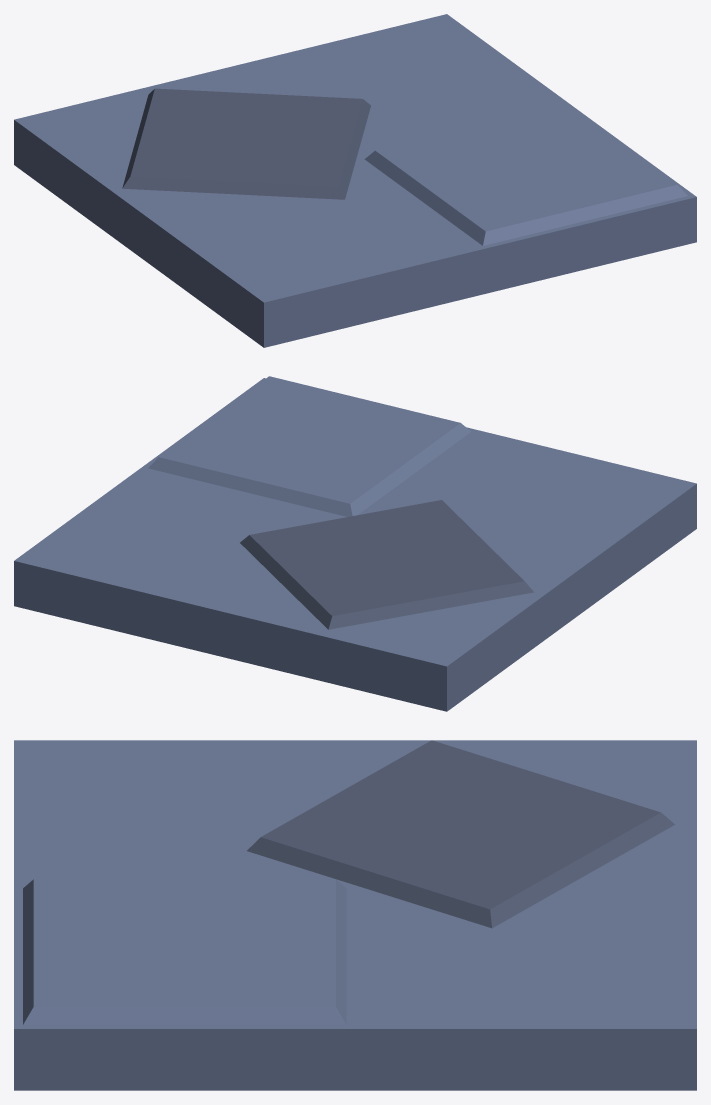
Rendered from floor_007.glb.
3 renders of one model, top to bottom at view 1: azimuth 30°, elevation 25°; view 2: azimuth 150°, elevation 25°; view 3: azimuth 270°, elevation 25°, orthographic. The views are drawn at different scales.
Parts seen in each view (by area): view 1: floor.007; view 2: floor.007; view 3: floor.007.
Boxes of the visible parts, x1=… form: floor.007: x1=14, y1=14, x2=696, y2=347; floor.007: x1=14, y1=376, x2=696, y2=711; floor.007: x1=14, y1=740, x2=696, y2=1090.
Bounding box in the file's own units: 2 × 0.2444 × 2.
